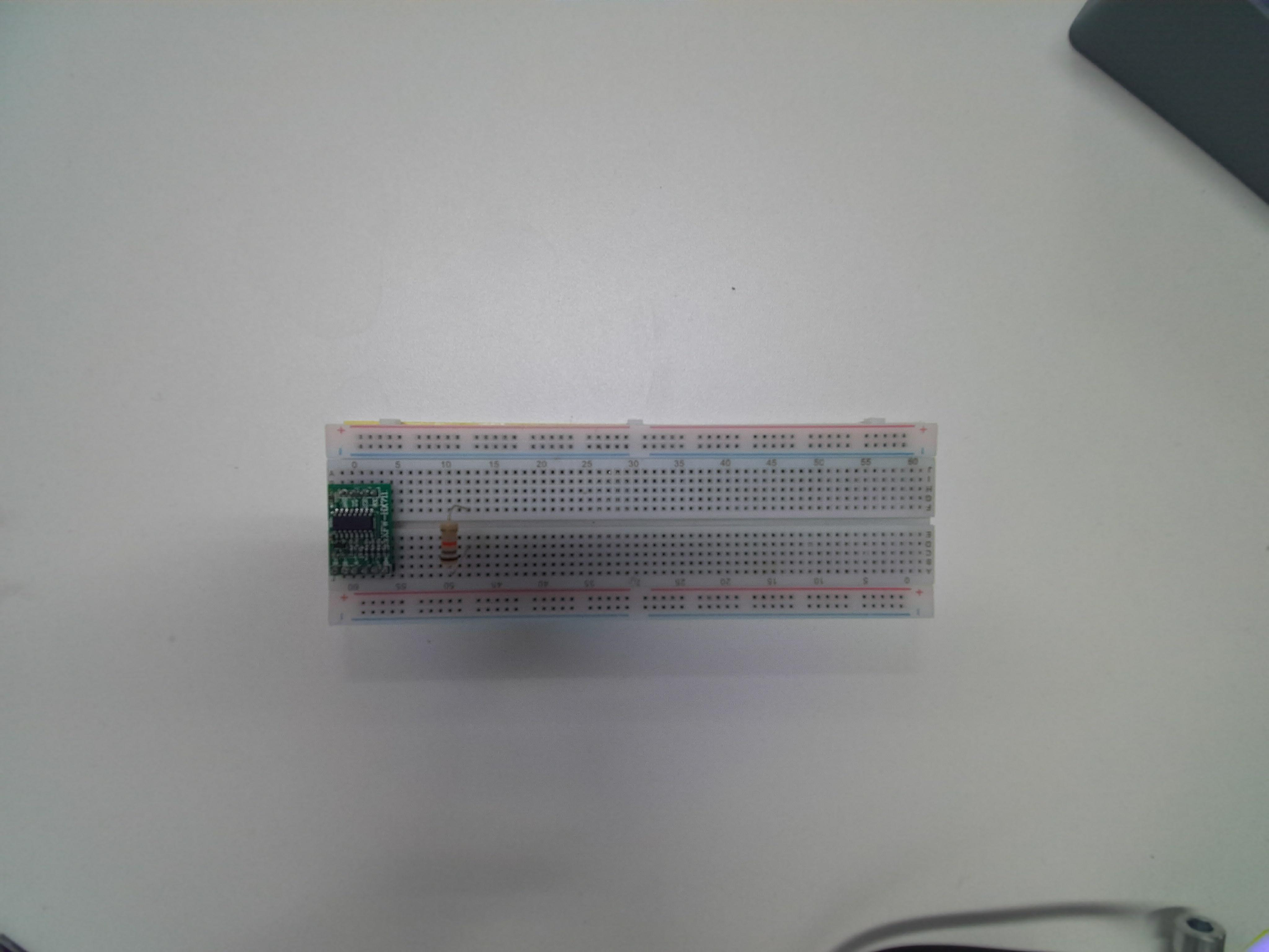base: (322, 421, 940, 626)
green-board: (325, 479, 400, 581)
resistor-big: (440, 516, 460, 567)
